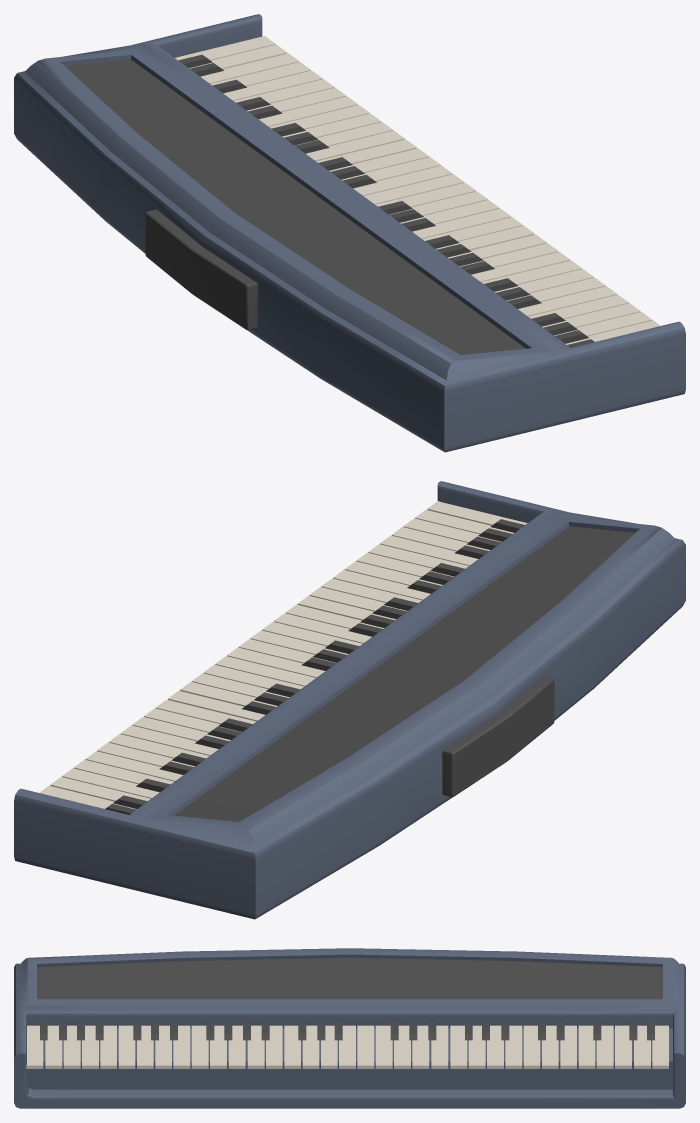
File: piano.fbx
3 views of the same model, one above another, from view 1: azimuth 30°, elevation 25°; view 2: azimuth 150°, elevation 25°; view 3: azimuth 270°, elevation 25° (orthographic). The views are drawn at different scales.
Visible parts, largest first — view 1: pCube74; view 2: pCube74; view 3: pCube74.
Boxes of the visible parts, <box> form: pCube74: <box>14,14,685,452</box>; pCube74: <box>14,481,685,919</box>; pCube74: <box>14,948,685,1108</box>.
Size of the model in its own units: 372 by 107 by 991.
